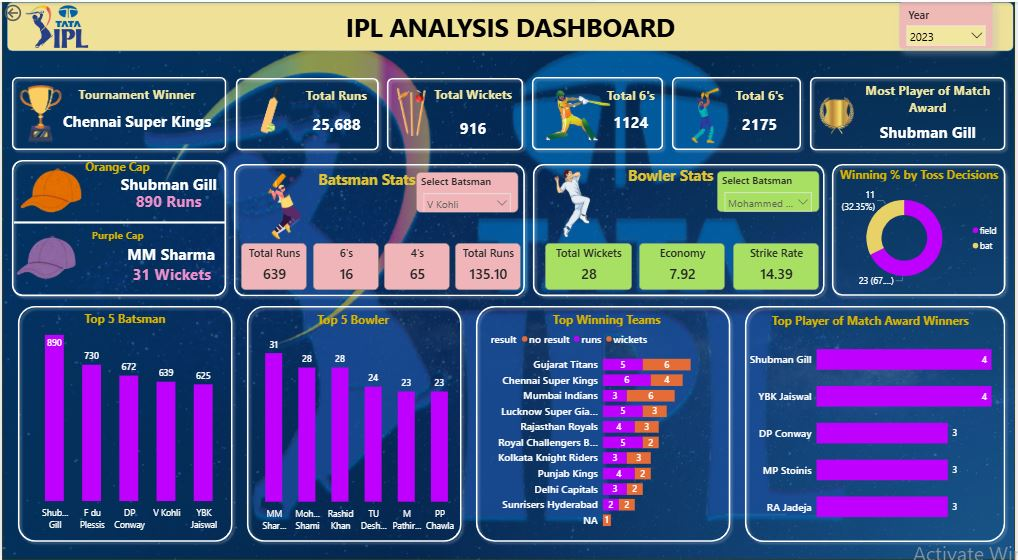

Layout of this report page (visuals, bound fields, positions):
{"tool":"powerbi","page":{"name":"Page 1","canvas":[1850,1020],"ordinal":0},"visuals":[{"type":"shape","box":[1467.8,128.5,375.5,152.6],"z":0},{"type":"shape","box":[19.4,546.8,410.3,449.1],"z":1000},{"type":"shape","box":[10,279.1,409.6,267],"z":2000},{"type":"shape","box":[1507.9,287.1,335.3,259],"z":3000},{"type":"shape","box":[10,0,1840,90],"z":4000},{"type":"shape","box":[1215.8,128.6,254,152],"z":5000},{"type":"shape","box":[959.9,128.6,258,152],"z":6000},{"type":"shape","box":[694.9,130,267,150.6],"z":7000},{"type":"shape","box":[10,128.6,410,152],"z":8000},{"type":"shape","box":[417.9,130,279.1,150.6],"z":9000},{"type":"slicer","fields":{"Values":["Date_Table.Year"]},"box":[1640,0,172,86],"z":10000},{"type":"card","title":"Tournament Winner","fields":{"Values":["matches.TournamentWinner"]},"box":[88,154,318,100],"z":11000},{"type":"card","title":"Total Wickets","fields":{"Values":["Sum(deliveries.is_wicket)"]},"box":[775.8,154,172,126],"z":12000},{"type":"card","title":"Total Runs","fields":{"Values":["Sum(deliveries.total_runs)"]},"box":[530.1,154.6,162.6,108.4],"z":13000},{"type":"card","title":"Total 6''s","fields":{"Values":["CountNonNull(deliveries.batsman_runs)"]},"box":[1082.2,154.6,134.5,100.4],"z":14000},{"type":"card","title":"Total 6''s","fields":{"Values":["CountNonNull(deliveries.batsman_runs)"]},"box":[1310.8,155.7,148.6,108.4],"z":15000},{"type":"card","title":"Most Player of Match Award","fields":{"Values":["Min(matches.player_of_match)"]},"box":[1554.1,146.6,277.1,126.5],"z":16000},{"type":"shape","box":[22.1,373.5,385.5,60.2],"z":17000},{"type":"textbox","box":[20.1,281.1,381.5,68.3],"z":18000},{"type":"textbox","box":[22.1,407.6,379.5,56.2],"z":19000},{"type":"card","fields":{"Values":["Min(deliveries.batter)"]},"box":[210.2,309.1,189.4,48.6],"z":20000},{"type":"card","fields":{"Values":["deliveries.Orange  Cap Holder Runs"]},"box":[210.3,338.1,188.7,51.5],"z":21000},{"type":"card","fields":{"Values":["Min(deliveries.bowler)"]},"box":[211.3,439.6,194.2,46.1],"z":22000},{"type":"card","fields":{"Values":["deliveries.Purple Cap holder Wickets"]},"box":[200.8,463.8,218.9,68.3],"z":23000},{"type":"shape","box":[415.4,286.5,550,260],"z":24000},{"type":"shape","box":[961.1,286.5,551.1,259.8],"z":25000},{"type":"slicer","title":"Select Batsman","fields":{"Values":["deliveries.batter"]},"box":[757,311.2,186.7,74.3],"z":26000},{"type":"card","title":"Total Runs","fields":{"Values":["Sum(deliveries.batsman_runs)"]},"box":[437.7,439.7,120.5,86.3],"z":27000},{"type":"card","title":"6''s","fields":{"Values":["CountNonNull(deliveries.batsman_runs)"]},"box":[568,440.3,120,85.7],"z":28000},{"type":"card","title":"4''s","fields":{"Values":["CountNonNull(deliveries.batsman_runs)"]},"box":[697.8,440.3,120,85.7],"z":29000},{"type":"card","title":"Total Runs","fields":{"Values":["deliveries.Batsman strike Rate"]},"box":[827.6,440.3,120,85.7],"z":30000},{"type":"card","title":"Total Wickets","fields":{"Values":["Sum(deliveries.is_wicket)"]},"box":[992.9,440.4,158.6,85.7],"z":31000},{"type":"slicer","title":"Select Batsman","fields":{"Values":["deliveries.bowler"]},"box":[1306.2,308.3,186.9,75.3],"z":32000},{"type":"card","title":"Strike Rate","fields":{"Values":["deliveries.Bowler Strike Rate"]},"box":[1335.7,440.4,157.1,85.7],"z":33000},{"type":"card","title":"Economy","fields":{"Values":["deliveries.Bowler Economy"]},"box":[1164.3,440.4,157.1,85.7],"z":34000},{"type":"actionButton","box":[0,0,100,40],"z":35000},{"type":"textbox","box":[1086.3,293.1,273.1,52.2],"z":36000},{"type":"donutChart","title":"Winning % by Toss Decisions","fields":{"Y":["CountNonNull(matches.winner)"],"Category":["matches.toss_decision"]},"box":[1520,299.2,311.2,234.9],"z":37000},{"type":"columnChart","title":"Top 5 Batsman","fields":{"Category":["deliveries.batter"],"Y":["Sum(deliveries.batsman_runs)"]},"box":[29.1,563.3,390.9,410.3],"z":38000},{"type":"shape","box":[438.4,546.8,410.3,449.1],"z":39000},{"type":"columnChart","title":"Top 5 Bowler","fields":{"Category":["deliveries.bowler"],"Y":["Sum(deliveries.is_wicket)"]},"box":[437.7,564.2,409.6,409.6],"z":40000},{"type":"shape","box":[857.4,546.8,483.1,449.1],"z":41000},{"type":"barChart","title":"Top Winning Teams","fields":{"Category":["matches.winner"],"Y":["CountNonNull(matches.winner)"],"Series":["matches.result"]},"box":[887.5,564.2,433.7,409.6],"z":42000},{"type":"shape","box":[1349.3,546.1,493.9,449.8],"z":43000},{"type":"barChart","title":"Top Player of Match Award Winners","fields":{"Category":["matches.player_of_match"],"Y":["CountNonNull(matches.player_of_match)"]},"box":[1359.3,566.2,453.8,409.6],"z":44000},{"type":"textbox","box":[530.1,299.2,273.1,52.2],"z":45000},{"type":"image","box":[30.1,287.1,124.5,116.5],"z":46000},{"type":"image","box":[20.1,403.6,124.5,126.5],"z":47000},{"type":"image","box":[10,140.6,124.5,126.5],"z":48000},{"type":"image","box":[429.7,128.5,122.5,134.5],"z":49000},{"type":"image","box":[698.7,142.6,100.4,122.5],"z":50000},{"type":"image","box":[977.8,301.2,128.5,132.5],"z":51000},{"type":"image","box":[437.7,301.2,152.6,142.6],"z":52000},{"type":"image","box":[1228.4,143.6,118.5,126.5],"z":53000},{"type":"image","box":[979.8,142.5,146.6,136.5],"z":54000},{"type":"image","box":[1479.8,158.6,94.4,100.4],"z":55000},{"type":"image","box":[38.1,0,124.5,90.4],"z":56000}]}

Visuals, with their boxes in screenshot pixels (x1, y1, x2, y2), scaled from the page's 1850x1020 canvas onto the 1018x560 screenshot:
shape: locate(808, 71, 1014, 154)
shape: locate(11, 300, 236, 547)
shape: locate(6, 153, 231, 300)
shape: locate(830, 158, 1014, 300)
shape: locate(6, 0, 1017, 49)
shape: locate(669, 71, 809, 154)
shape: locate(528, 71, 670, 154)
shape: locate(382, 71, 529, 154)
shape: locate(6, 71, 231, 154)
shape: locate(230, 71, 384, 154)
slicer - Date_Table.Year: locate(902, 0, 997, 47)
"Tournament Winner" card: locate(48, 85, 223, 139)
"Total Wickets" card: locate(427, 85, 522, 154)
"Total Runs" card: locate(292, 85, 381, 144)
"Total 6''s" card: locate(596, 85, 670, 140)
"Total 6''s" card: locate(721, 85, 803, 145)
"Most Player of Match Award" card: locate(855, 80, 1008, 150)
shape: locate(12, 205, 224, 238)
textbox: locate(11, 154, 221, 192)
textbox: locate(12, 224, 221, 255)
card - Min(deliveries.batter): locate(116, 170, 220, 196)
card - deliveries.Orange  Cap Holder Runs: locate(116, 186, 220, 214)
card - Min(deliveries.bowler): locate(116, 241, 223, 267)
card - deliveries.Purple Cap holder Wickets: locate(110, 255, 231, 292)
shape: locate(229, 157, 531, 300)
shape: locate(529, 157, 832, 300)
"Select Batsman" slicer: locate(417, 171, 519, 212)
"Total Runs" card: locate(241, 241, 307, 289)
"6''s" card: locate(313, 242, 379, 289)
"4''s" card: locate(384, 242, 450, 289)
"Total Runs" card: locate(455, 242, 521, 289)
"Total Wickets" card: locate(546, 242, 634, 289)
"Select Batsman" slicer: locate(719, 169, 822, 211)
"Strike Rate" card: locate(735, 242, 821, 289)
"Economy" card: locate(641, 242, 727, 289)
actionButton: locate(0, 0, 55, 22)
textbox: locate(598, 161, 748, 190)
"Winning % by Toss Decisions" donutChart: locate(836, 164, 1008, 293)
"Top 5 Batsman" columnChart: locate(16, 309, 231, 535)
shape: locate(241, 300, 467, 547)
"Top 5 Bowler" columnChart: locate(241, 310, 466, 535)
shape: locate(472, 300, 738, 547)
"Top Winning Teams" barChart: locate(488, 310, 727, 535)
shape: locate(742, 300, 1014, 547)
"Top Player of Match Award Winners" barChart: locate(748, 311, 998, 536)
textbox: locate(292, 164, 442, 193)
image: locate(17, 158, 85, 222)
image: locate(11, 222, 80, 291)
image: locate(6, 77, 74, 147)
image: locate(236, 71, 304, 144)
image: locate(384, 78, 440, 146)
image: locate(538, 165, 609, 238)
image: locate(241, 165, 325, 244)
image: locate(676, 79, 741, 148)
image: locate(539, 78, 620, 153)
image: locate(814, 87, 866, 142)
image: locate(21, 0, 89, 50)
